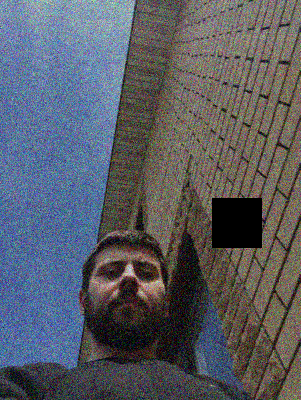without_mask: (90, 256, 165, 349)
